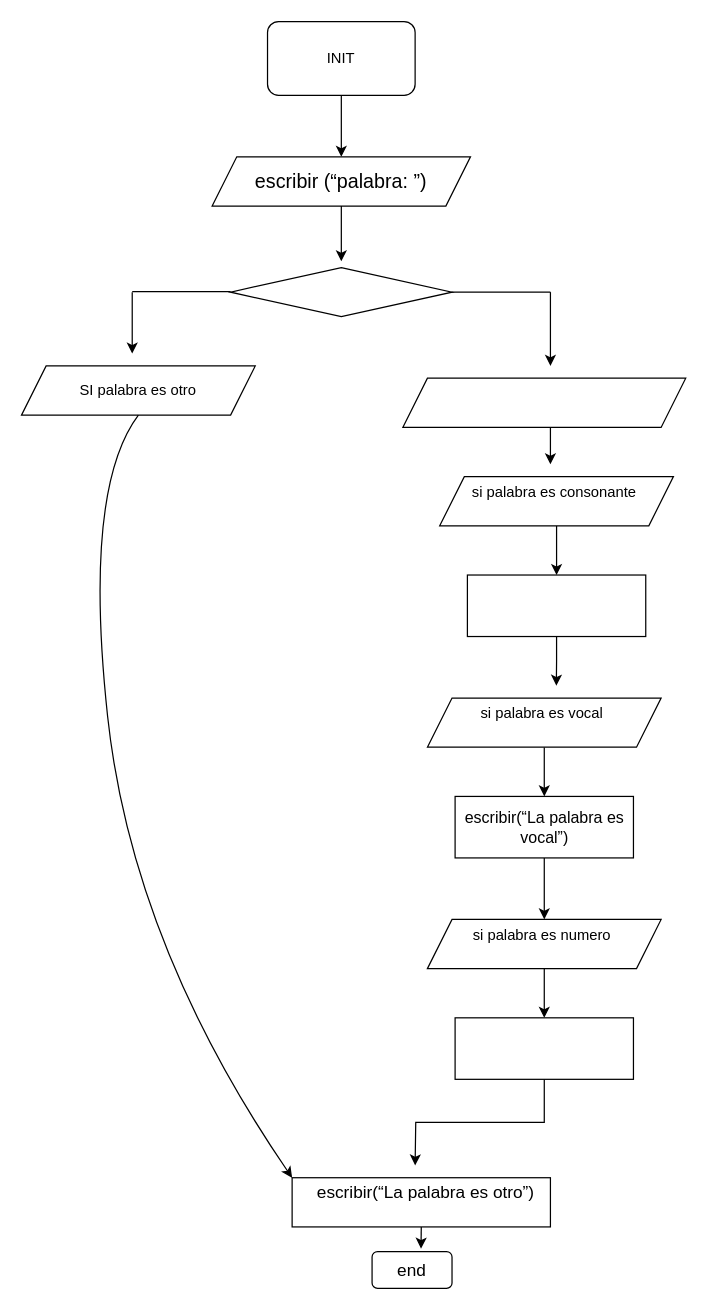
Image size: 707x1310. Some labels were removed from this diagram. Here are the shapes that lost their labels. From the top down, the centre of each, then its label:
pixel 340 291: IF
pixel 544 402: si palabra
pixel 556 605: escribir(“La palabra es consonante”)
pixel 543 1048: escribir(“La palabra es numero”)
